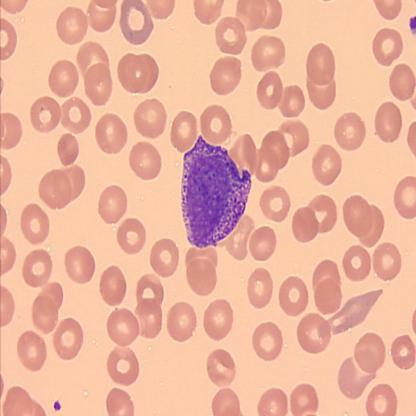Myelocyte: (183, 133, 253, 250)
